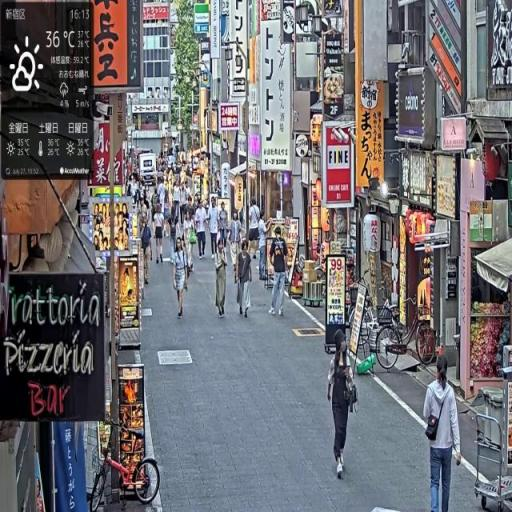person: (424, 353, 464, 512), (327, 328, 360, 483), (173, 236, 192, 320), (235, 240, 254, 322), (215, 238, 229, 319), (140, 215, 153, 290), (195, 200, 209, 260), (153, 204, 166, 268), (208, 200, 221, 260)
